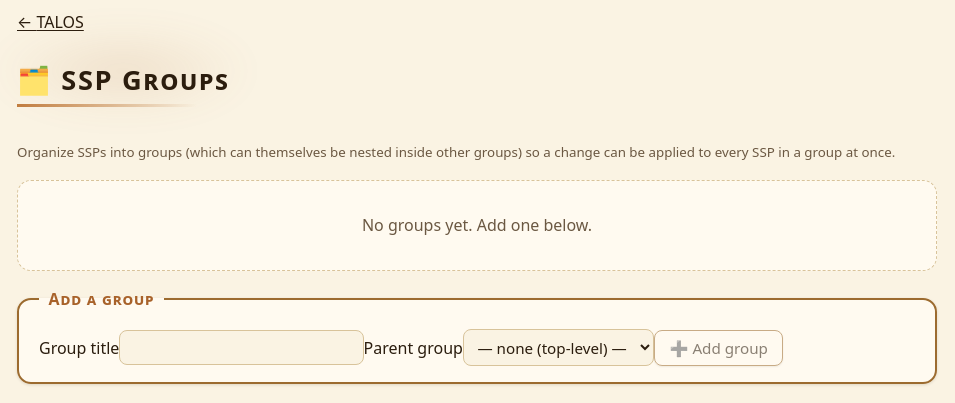
Test case: SspGroupsPage › shows the empty state, then adds a new top-level group
expect the text "No groups yet. Add one below." is shown: met, box [17,180,937,271]
Type "Berlin Site" into the field with test id "ssp-group-new-title" at (241, 348), box [119,330,364,365]
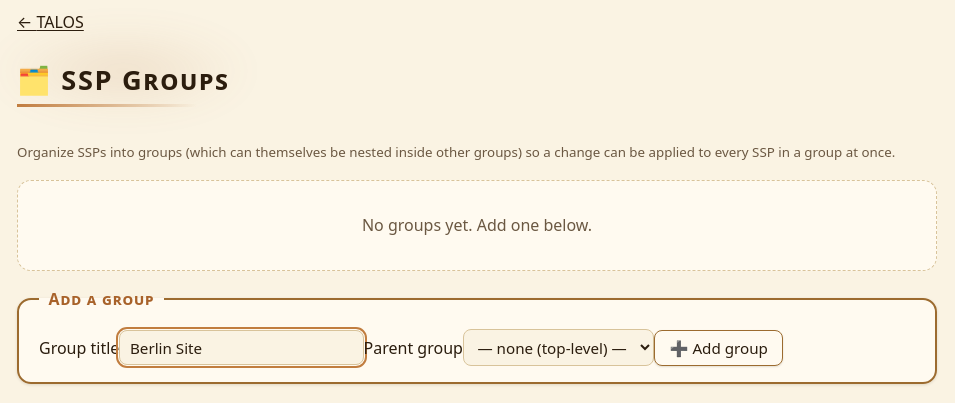
Click the button with test id "ssp-group-add" at (719, 348), box [654,330,783,366]
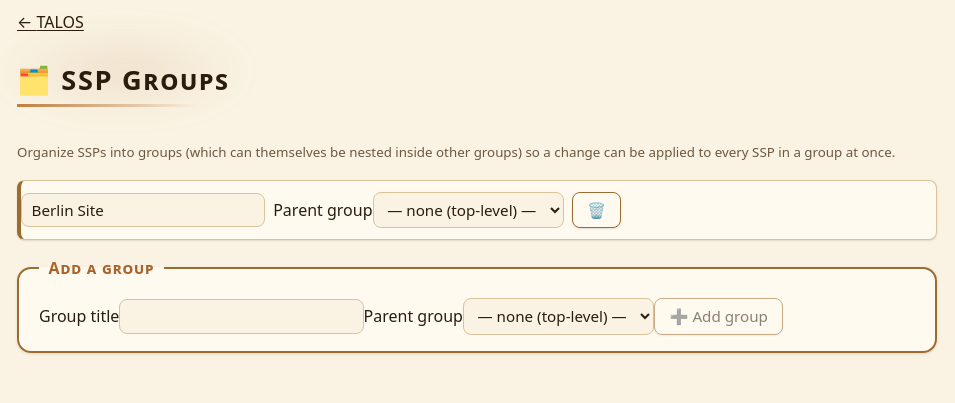
expect the number of list items with test id "ssp-group-row" is 1: met, box [17,180,937,240]
expect the field with test id "ssp-group-title" holds "Berlin Site": met, box [21,192,265,227]
